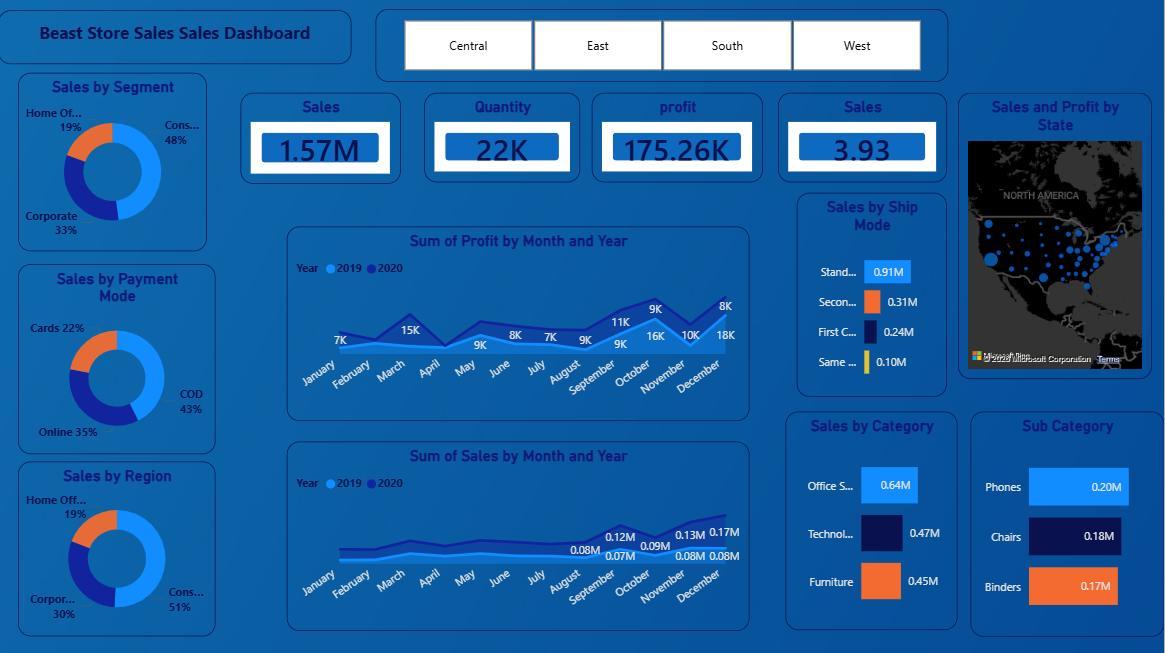

What the dashboard file says about the page in this screenshot:
{"tool":"powerbi","page":{"name":"Page 1","canvas":[1280,720],"ordinal":0},"visuals":[{"type":"clusteredBarChart","title":"Sales by Category","fields":{"Category":["SuperStore_Sales_Dataset.Category"],"Y":["Sum(SuperStore_Sales_Dataset.Sales)"]},"box":[864.2,452.5,189.1,240.1],"z":0},{"type":"clusteredBarChart","title":"Sub Category","fields":{"Category":["SuperStore_Sales_Dataset.Sub-Category"],"Y":["Sum(SuperStore_Sales_Dataset.Sales)"]},"box":[1067.9,452.5,212.4,247.3],"z":1000},{"type":"clusteredBarChart","title":"Sales by Ship Mode","fields":{"Category":["SuperStore_Sales_Dataset.Ship Mode"],"Y":["Sum(SuperStore_Sales_Dataset.Sales)"]},"box":[876.8,212.7,164.7,223.7],"z":2000},{"type":"stackedAreaChart","fields":{"Y":["Sum(SuperStore_Sales_Dataset.Sales)"],"Category":["SuperStore_Sales_Dataset.Order Date.Variation.Date Hierarchy.Month","SuperStore_Sales_Dataset.Order Date.Variation.Date Hierarchy.Day"],"Series":["SuperStore_Sales_Dataset.Order Date.Variation.Date Hierarchy.Year"]},"box":[317.2,485.9,507.8,208],"z":3000},{"type":"stackedAreaChart","fields":{"Category":["SuperStore_Sales_Dataset.Order Date.Variation.Date Hierarchy.Month","SuperStore_Sales_Dataset.Order Date.Variation.Date Hierarchy.Day"],"Series":["SuperStore_Sales_Dataset.Order Date.Variation.Date Hierarchy.Year"],"Y":["Sum(SuperStore_Sales_Dataset.Profit)"]},"box":[317.2,250.2,507.8,213.9],"z":4000},{"type":"donutChart","title":" Sales by Segment","fields":{"Category":["SuperStore_Sales_Dataset.Segment"],"Y":["Sum(SuperStore_Sales_Dataset.Sales)"]},"box":[22,81,207.2,196.2],"z":5000},{"type":"donutChart","title":" Sales by Payment Mode","fields":{"Category":["SuperStore_Sales_Dataset.Payment Mode"],"Y":["Sum(SuperStore_Sales_Dataset.Sales)"]},"box":[22,290.9,216.8,208.6],"z":6000},{"type":"slicer","fields":{"Values":["SuperStore_Sales_Dataset.Region"]},"box":[414.6,11.6,628.5,80],"z":7000},{"type":"textbox","box":[0,12.3,388.3,59],"z":8000},{"type":"cardVisual","title":"Sales","fields":{"Data":["Sum(SuperStore_Sales_Dataset.Sales)"]},"box":[266.2,102.9,175.6,100.2],"z":9000},{"type":"cardVisual","title":"Quantity","fields":{"Data":["Sum(SuperStore_Sales_Dataset.Quantity)"]},"box":[467.9,102.9,171.5,98.8],"z":10000},{"type":"cardVisual","title":"profit","fields":{"Data":["Sum(SuperStore_Sales_Dataset.Profit)"]},"box":[651.8,102.9,188,98.8],"z":11000},{"type":"cardVisual","title":"Sales","fields":{"Data":["Avg(SuperStore_Sales_Dataset.avgdelivery)"]},"box":[856.3,102.9,185.2,98.8],"z":12000},{"type":"donutChart","title":" Sales by Region","fields":{"Category":["SuperStore_Sales_Dataset.Segment"],"Y":["CountNonNull(SuperStore_Sales_Dataset.Region)"]},"box":[22,507.7,216.8,192.1],"z":13000},{"type":"map","title":" Sales and Profit by State","fields":{"Category":["SuperStore_Sales_Dataset.State"],"Size":["Sum(SuperStore_Sales_Dataset.Sales)"]},"box":[1053.9,102.9,212.7,314.2],"z":14000}]}

Visuals, with their boxes in screenshot pixels (x1, y1, x2, y2), scaled from the page's 1280x720 canvas onto the 1165x653 screenshot:
"Sales by Category" clusteredBarChart: 787,410,959,628
"Sub Category" clusteredBarChart: 972,410,1164,635
"Sales by Ship Mode" clusteredBarChart: 798,193,948,396
stackedAreaChart - Sum(SuperStore_Sales_Dataset.Sales) x SuperStore_Sales_Dataset.Order Date.Variation.Date Hierarchy.Month: 289,441,751,629
stackedAreaChart - SuperStore_Sales_Dataset.Order Date.Variation.Date Hierarchy.Month x SuperStore_Sales_Dataset.Order Date.Variation.Date Hierarchy.Day: 289,227,751,421
" Sales by Segment" donutChart: 20,73,209,251
" Sales by Payment Mode" donutChart: 20,264,217,453
slicer - SuperStore_Sales_Dataset.Region: 377,11,949,83
textbox: 0,11,353,65
"Sales" cardVisual: 242,93,402,184
"Quantity" cardVisual: 426,93,582,183
"profit" cardVisual: 593,93,764,183
"Sales" cardVisual: 779,93,948,183
" Sales by Region" donutChart: 20,460,217,635
" Sales and Profit by State" map: 959,93,1153,378
